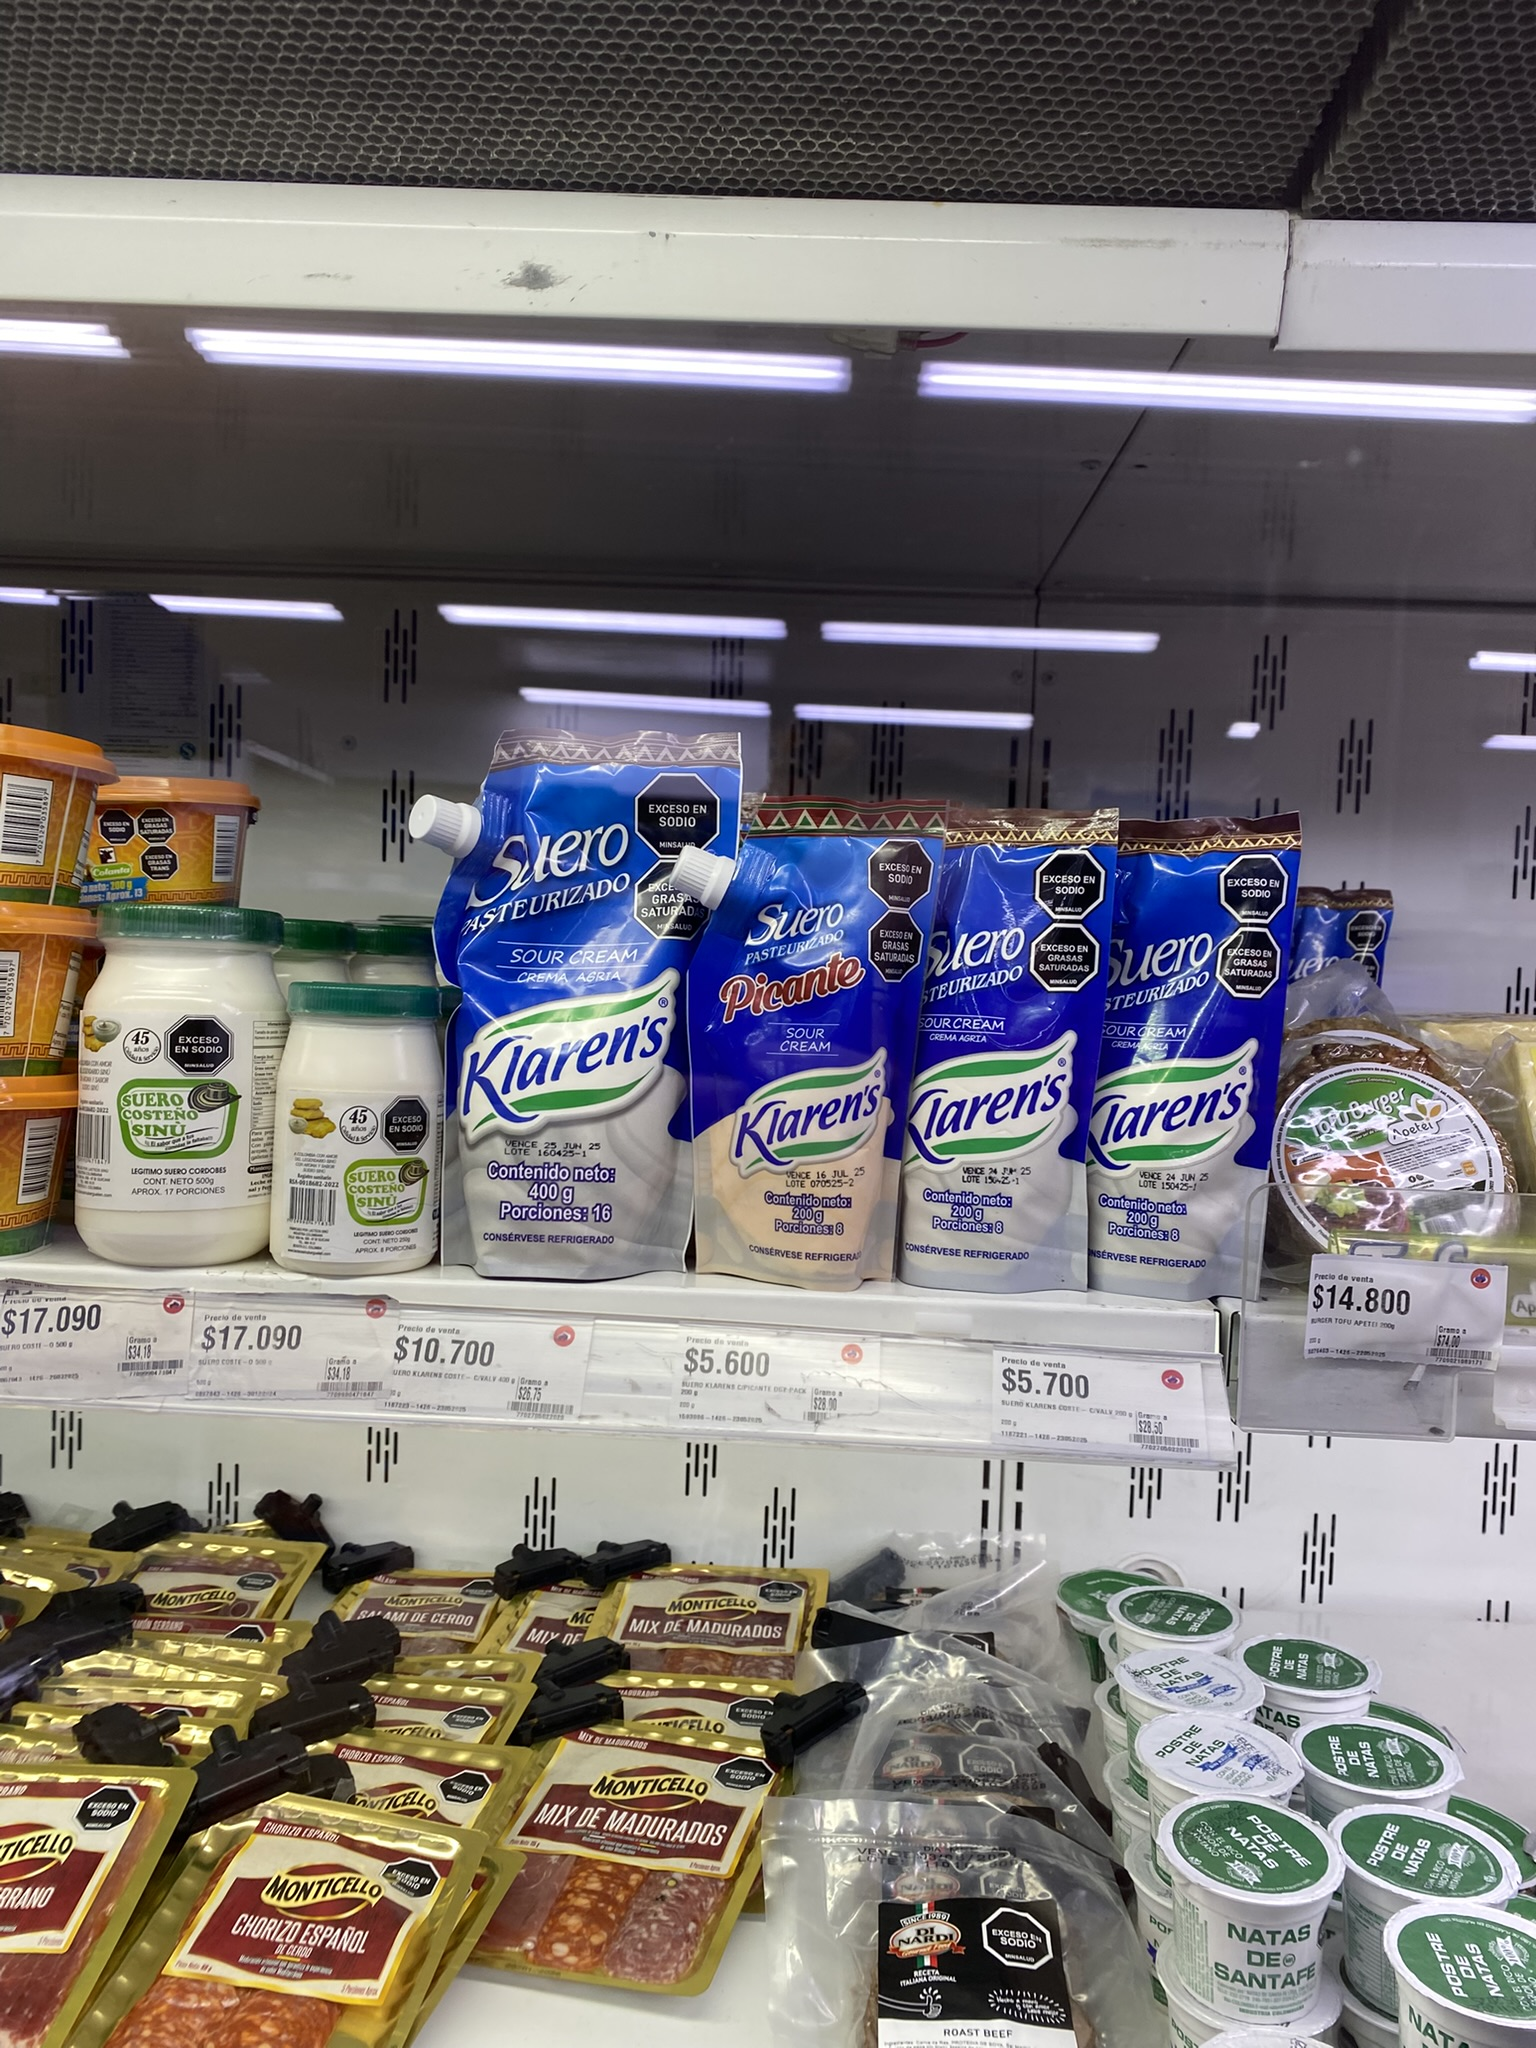Suero: (395, 710, 700, 1272), (689, 813, 945, 1282), (1078, 811, 1299, 1295), (916, 827, 1086, 1282)
